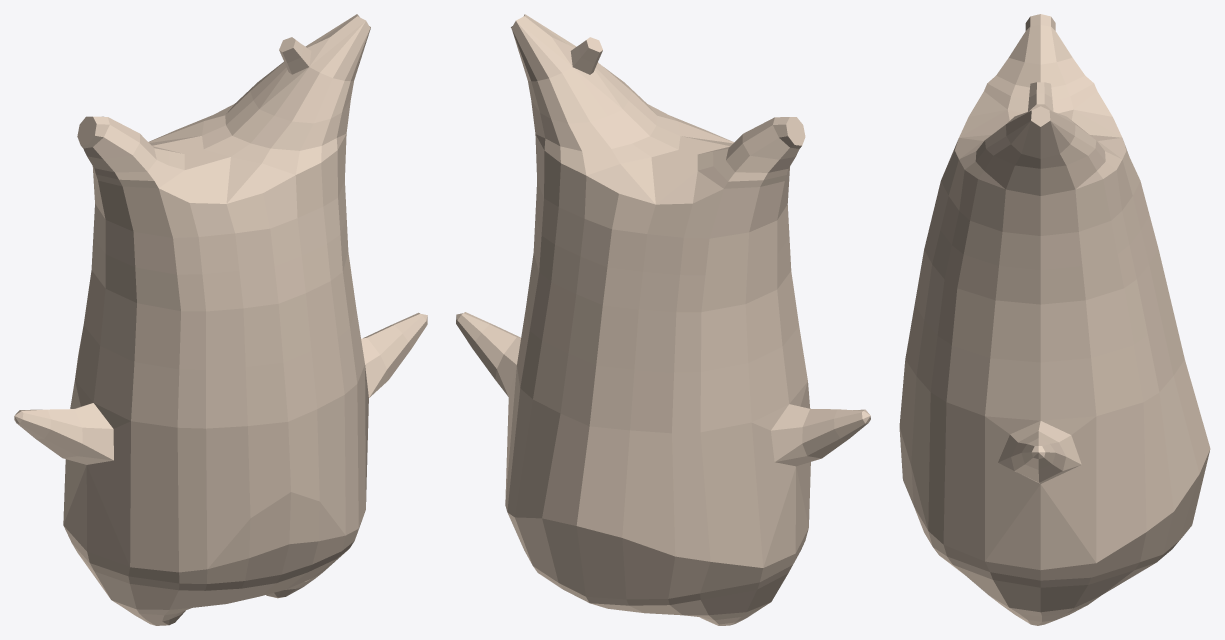
Rendered from frame_0038.obj.
The picture shows the model from 3 angles, left to right: view 1: azimuth 30°, elevation 25°; view 2: azimuth 150°, elevation 25°; view 3: azimuth 270°, elevation 25°; orthographic projection.
Parts seen in each view (by area): view 1: korok; view 2: korok; view 3: korok.
Boxes of the visible parts, bbox=[...] form: korok: bbox=[14, 14, 427, 625]; korok: bbox=[456, 14, 870, 625]; korok: bbox=[899, 14, 1210, 625].
Bounding box in the file's own units: 1.63 × 2.11 × 1.07.
